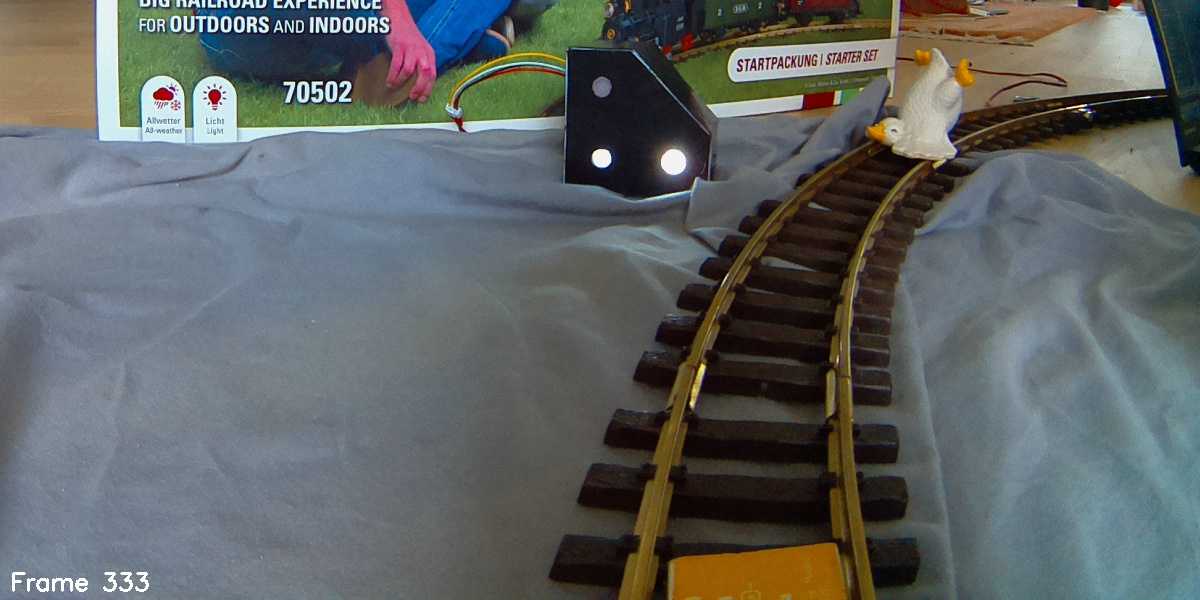Halt: (566, 44, 709, 182)
